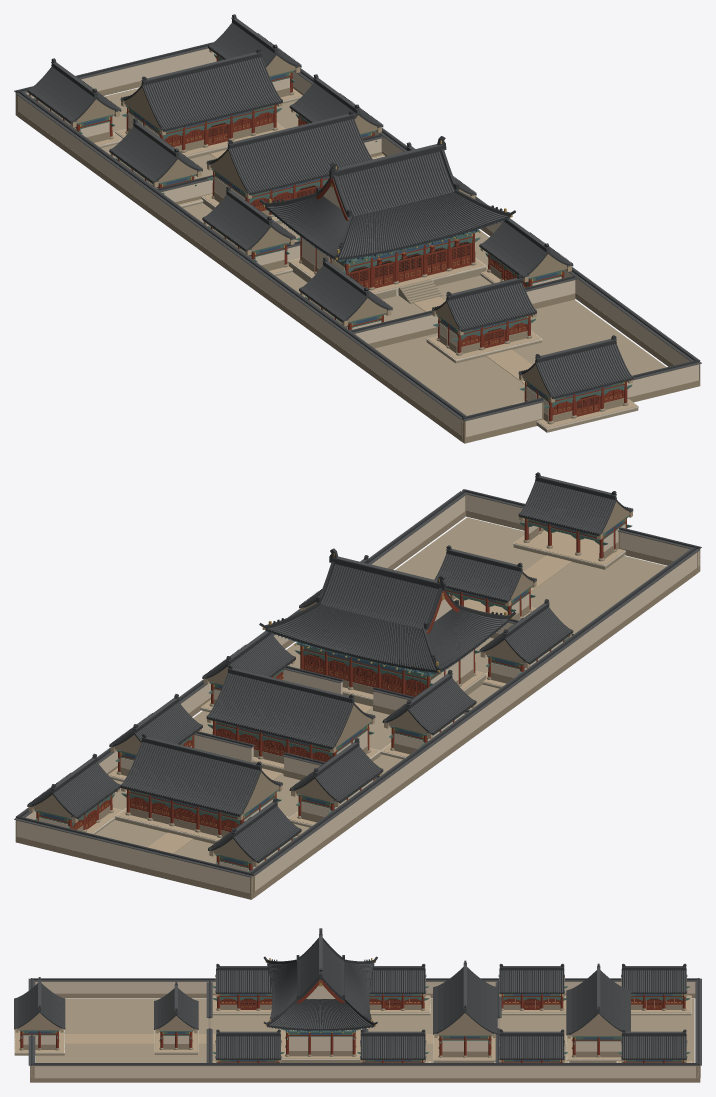
3 views of the same model, one above another, from view 1: azimuth 30°, elevation 25°; view 2: azimuth 150°, elevation 25°; view 3: azimuth 270°, elevation 25° (orthographic). The views are drawn at different scales.
Parts seen in each view (by area): view 1: B01; view 2: B01; view 3: B01.
Boxes of the visible parts, x1=… form: B01: x1=14, y1=14, x2=701, y2=443; B01: x1=14, y1=472, x2=701, y2=899; B01: x1=14, y1=928, x2=701, y2=1082.
Bounding box in the file's own units: 37.2 × 18.21 × 124.
